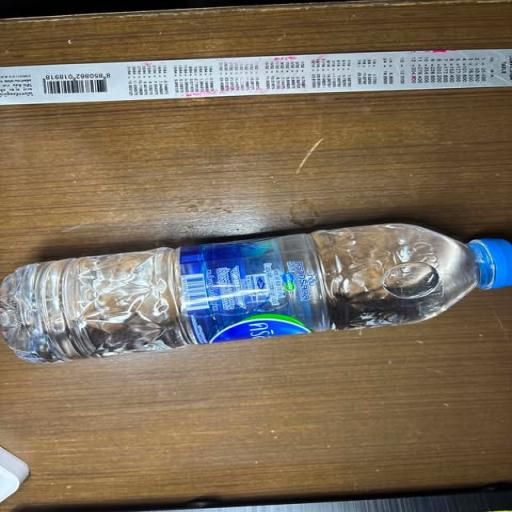bottle: (2, 219, 512, 361)
